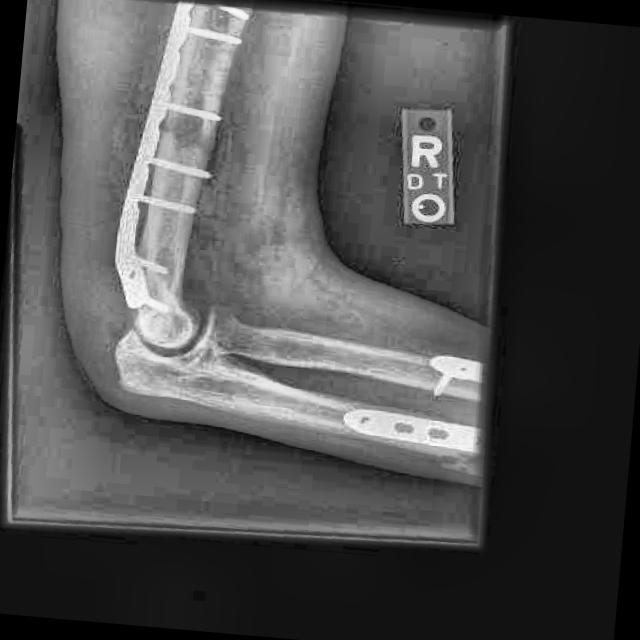elbow positive: (151, 110, 237, 175)
